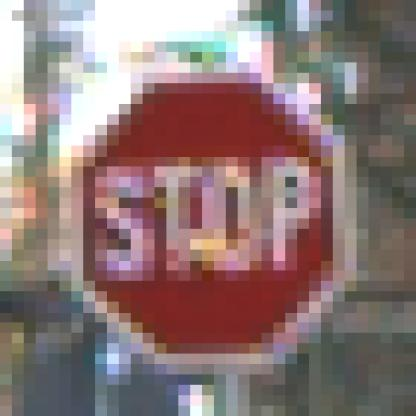Stop: (73, 76, 344, 360)
